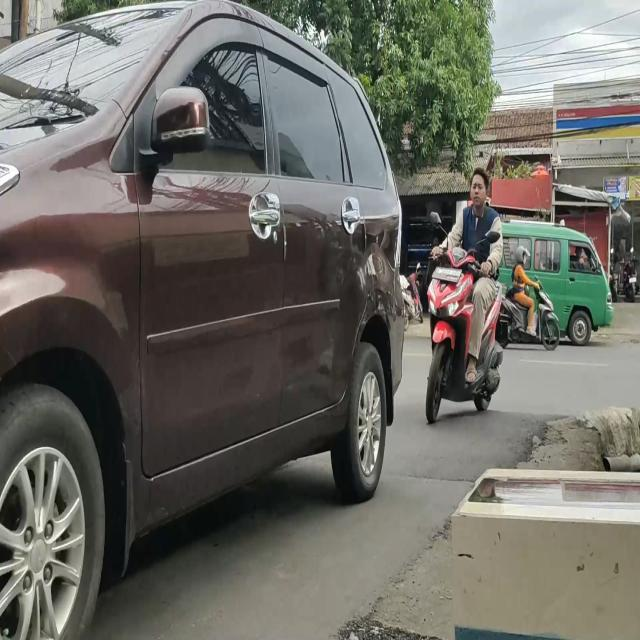helmet: (515, 244, 528, 267)
no-helmet: (469, 167, 492, 207)
